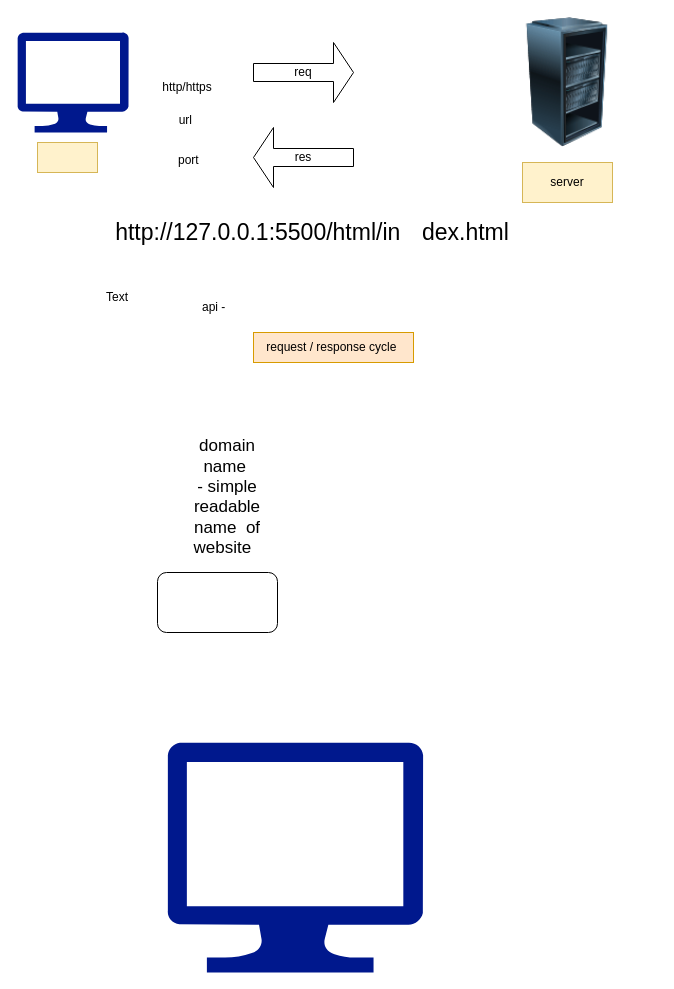
Image size: 674x989. Some labels were removed from this diagram. Each missing label, with the box of its shape:
client /browser: (36, 142, 98, 172)
dns: (156, 572, 278, 632)
